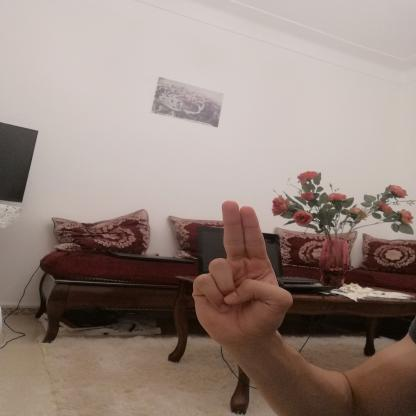TA: (186, 194, 302, 356)
